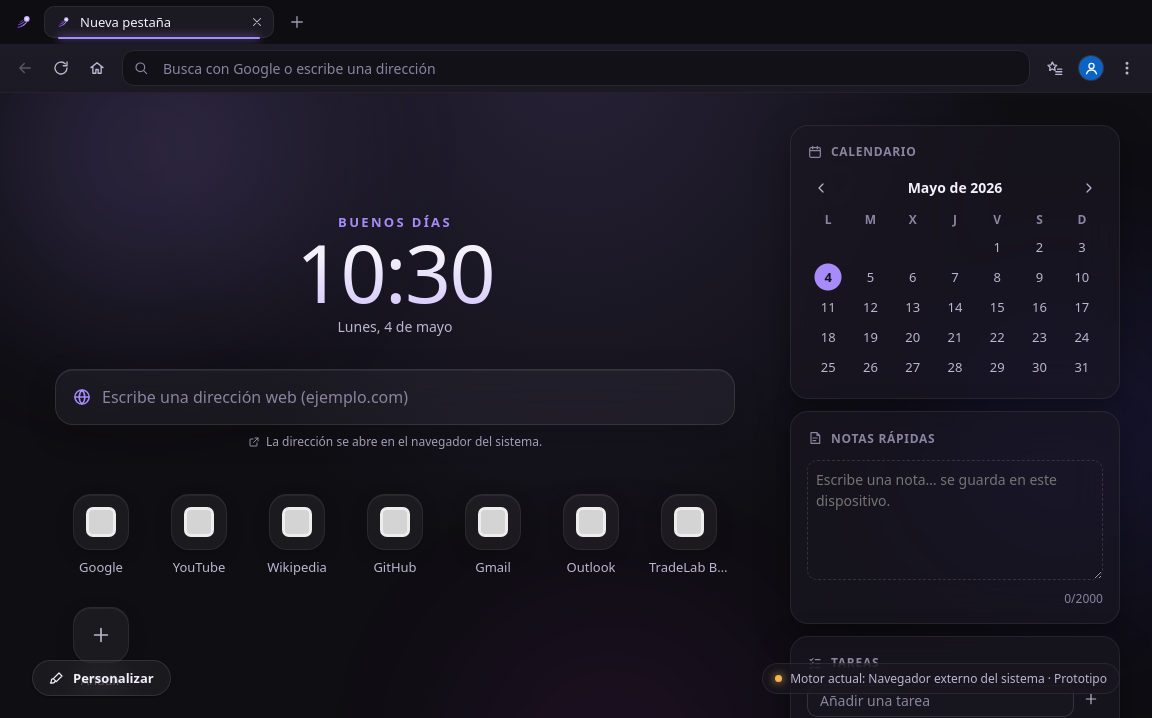
Test case: perfil personalizable › sin nombre ni foto muestra la silueta; el panel lleva a Configuración → Perfil
The width and height of the screenshot is (1152, 718).
Click the button named "Perfil: Perfil" at (1091, 68), box [1074,51,1108,85]
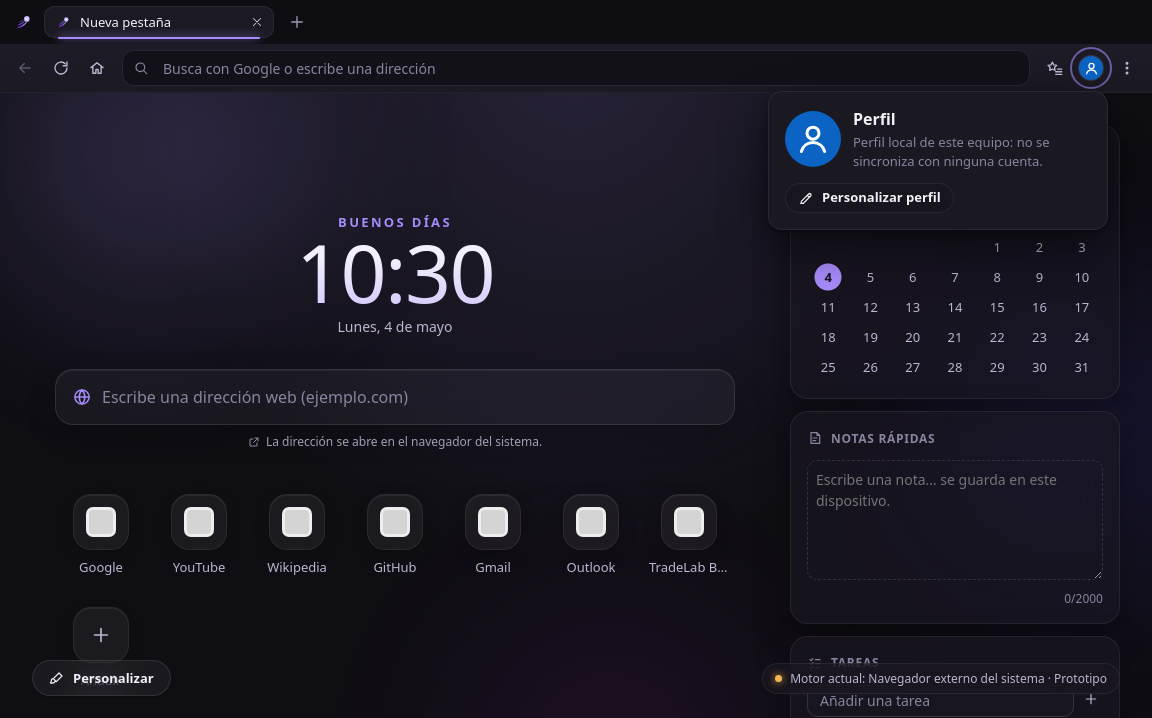
Click the button "Personalizar perfil" at (869, 198), box [785,183,954,213]
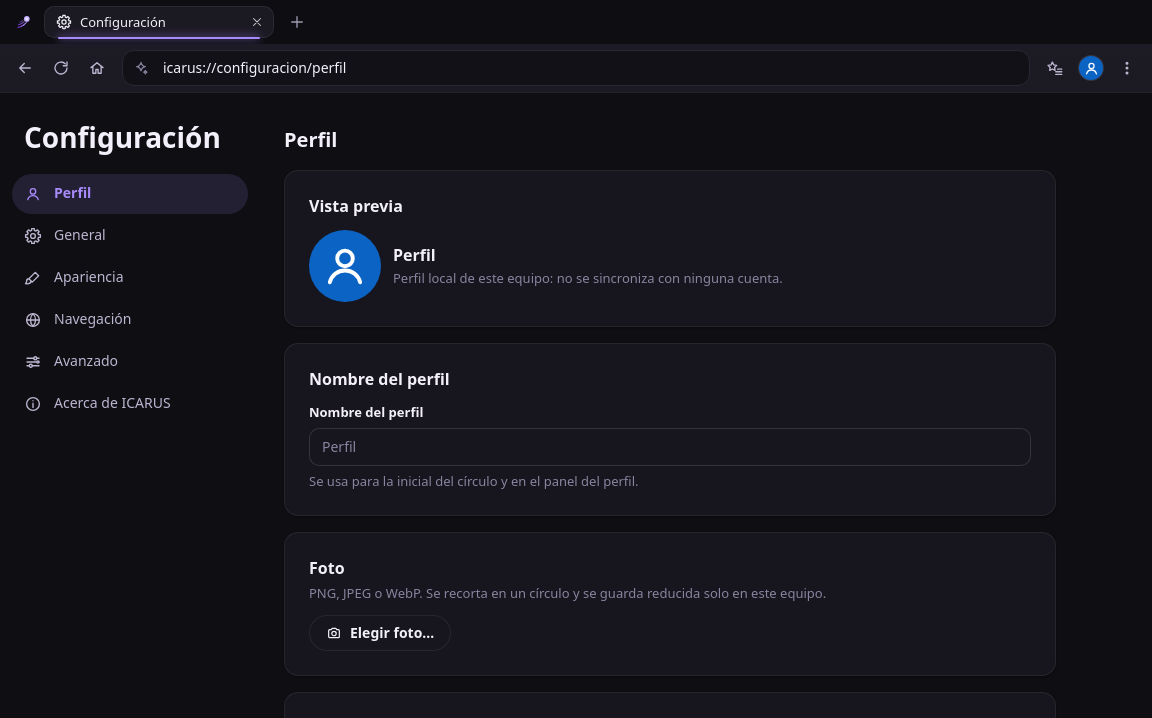
Check: the heading "Perfil" is shown, box [284,126,337,153]
Check: the dropdown named "Barra de direcciones" holds "icarus://configuracion/perfil", box [157,51,1023,85]
